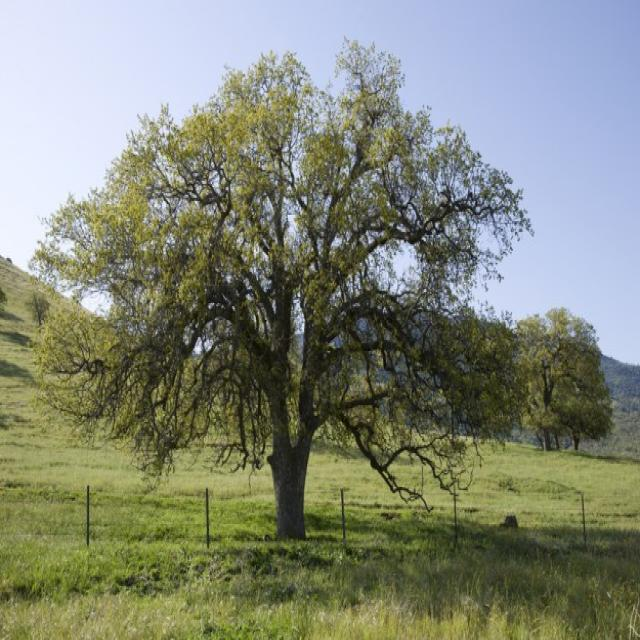Quercus kelloggii: (39, 48, 610, 538)
